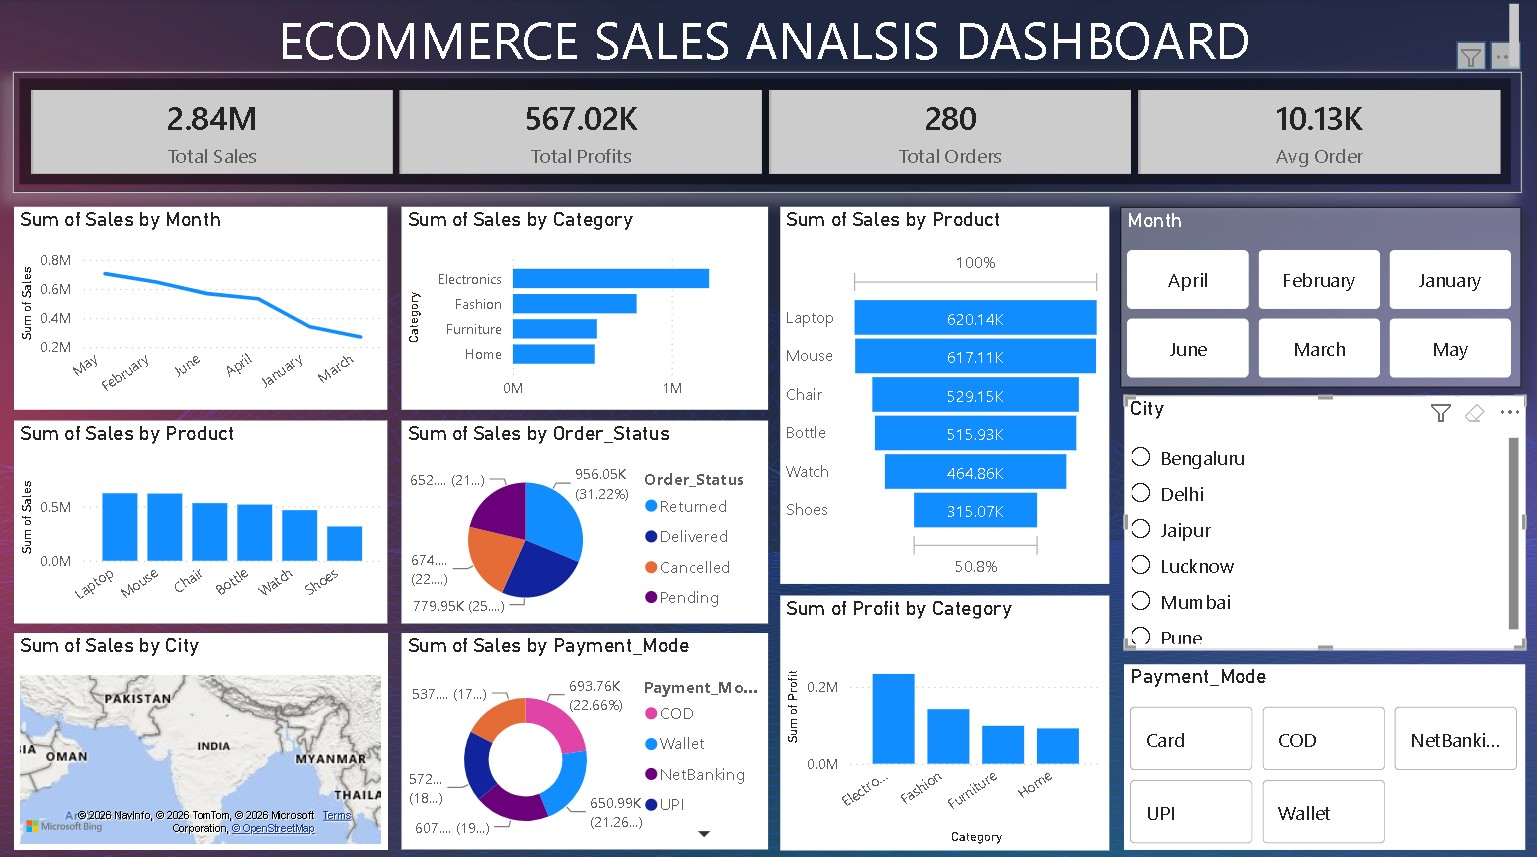

What the dashboard file says about the page in this screenshot:
{"tool":"powerbi","page":{"name":"Page 1","canvas":[1280,720],"ordinal":0},"visuals":[{"type":"cardVisual","fields":{"Data":["Dax Measures.Total Sales","Dax Measures.Total Profits","Dax Measures.Total Orders","Dax Measures.Avg Order"]},"box":[11.6,61.6,1254.7,100],"z":0},{"type":"textbox","box":[12.8,0,1255.8,72.1],"z":1000},{"type":"lineChart","fields":{"Category":["public clean_data.Month"],"Y":["Sum(public clean_data.Sales)"]},"box":[12.8,173.3,310.5,168.6],"z":2000},{"type":"barChart","fields":{"Category":["public clean_data.Category"],"Y":["Sum(public clean_data.Sales)"]},"box":[334.9,173.3,304.7,168.6],"z":3000},{"type":"columnChart","fields":{"Category":["public clean_data.Product"],"Y":["Sum(public clean_data.Sales)"]},"box":[12.8,351.2,310.5,168.6],"z":4000},{"type":"filledMap","fields":{"Category":["public clean_data.City"]},"box":[12.8,527.9,310.5,180.2],"z":5000},{"type":"donutChart","fields":{"Category":["public clean_data.Payment_Mode"],"Y":["Sum(public clean_data.Sales)"]},"box":[334.9,527.9,304.7,180.2],"z":6000},{"type":"pieChart","fields":{"Category":["public clean_data.Order_Status"],"Y":["Sum(public clean_data.Sales)"]},"box":[334.9,351.2,304.7,168.6],"z":7000},{"type":"funnel","fields":{"Category":["public clean_data.Product"],"Y":["Sum(public clean_data.Sales)"]},"box":[650,173.3,273.3,314],"z":8000},{"type":"columnChart","fields":{"Category":["public clean_data.Category"],"Y":["Sum(public clean_data.Profit)"]},"box":[650,496.5,273.3,211.6],"z":9000},{"type":"advancedSlicerVisual","fields":{"Values":["public clean_data.Month"]},"box":[932.6,173.3,333.3,150],"z":10000},{"type":"listSlicer","fields":{"Values":["public clean_data.City"]},"box":[934.9,330.2,333.7,211.6],"z":11000},{"type":"advancedSlicerVisual","fields":{"Values":["public clean_data.Payment_Mode"]},"box":[934.9,553.5,333.7,154.7],"z":12000}]}

Visuals, with their boxes in screenshot pixels (x1, y1, x2, y2), scaled from the page's 1280x720 canvas onto the 1537x857 screenshot:
cardVisual - Dax Measures.Total Sales x Dax Measures.Total Profits: locate(14, 73, 1521, 192)
textbox: locate(15, 0, 1523, 86)
lineChart - public clean_data.Month x Sum(public clean_data.Sales): locate(15, 206, 388, 407)
barChart - public clean_data.Category x Sum(public clean_data.Sales): locate(402, 206, 768, 407)
columnChart - public clean_data.Product x Sum(public clean_data.Sales): locate(15, 418, 388, 619)
filledMap - public clean_data.City: locate(15, 628, 388, 843)
donutChart - public clean_data.Payment_Mode x Sum(public clean_data.Sales): locate(402, 628, 768, 843)
pieChart - public clean_data.Order_Status x Sum(public clean_data.Sales): locate(402, 418, 768, 619)
funnel - public clean_data.Product x Sum(public clean_data.Sales): locate(781, 206, 1109, 580)
columnChart - public clean_data.Category x Sum(public clean_data.Profit): locate(781, 591, 1109, 843)
advancedSlicerVisual - public clean_data.Month: locate(1120, 206, 1520, 385)
listSlicer - public clean_data.City: locate(1123, 393, 1523, 645)
advancedSlicerVisual - public clean_data.Payment_Mode: locate(1123, 659, 1523, 843)
